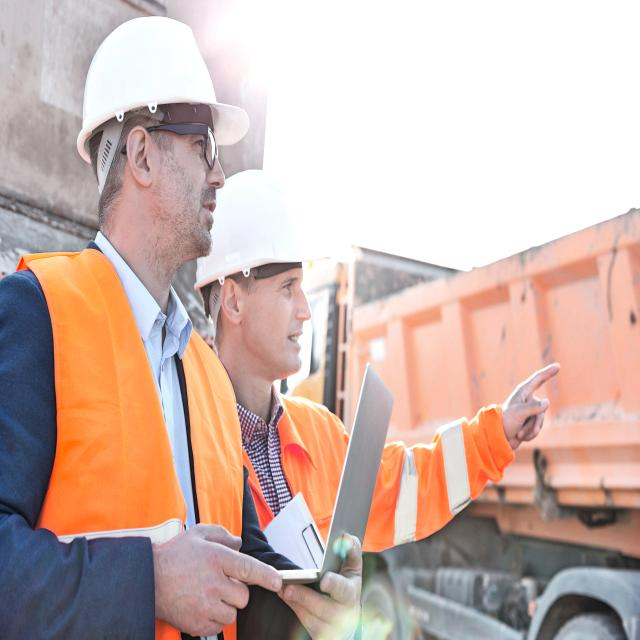face_nomask: (146, 129, 231, 254), (244, 267, 316, 374)
glasses: (195, 122, 226, 168)
hand_noglove: (153, 511, 282, 640), (281, 528, 373, 640), (500, 355, 565, 468)
head_helmet: (66, 13, 241, 142), (190, 152, 327, 296)
person: (10, 17, 264, 640), (217, 87, 420, 633)
vest: (22, 294, 227, 634), (243, 353, 527, 592)
